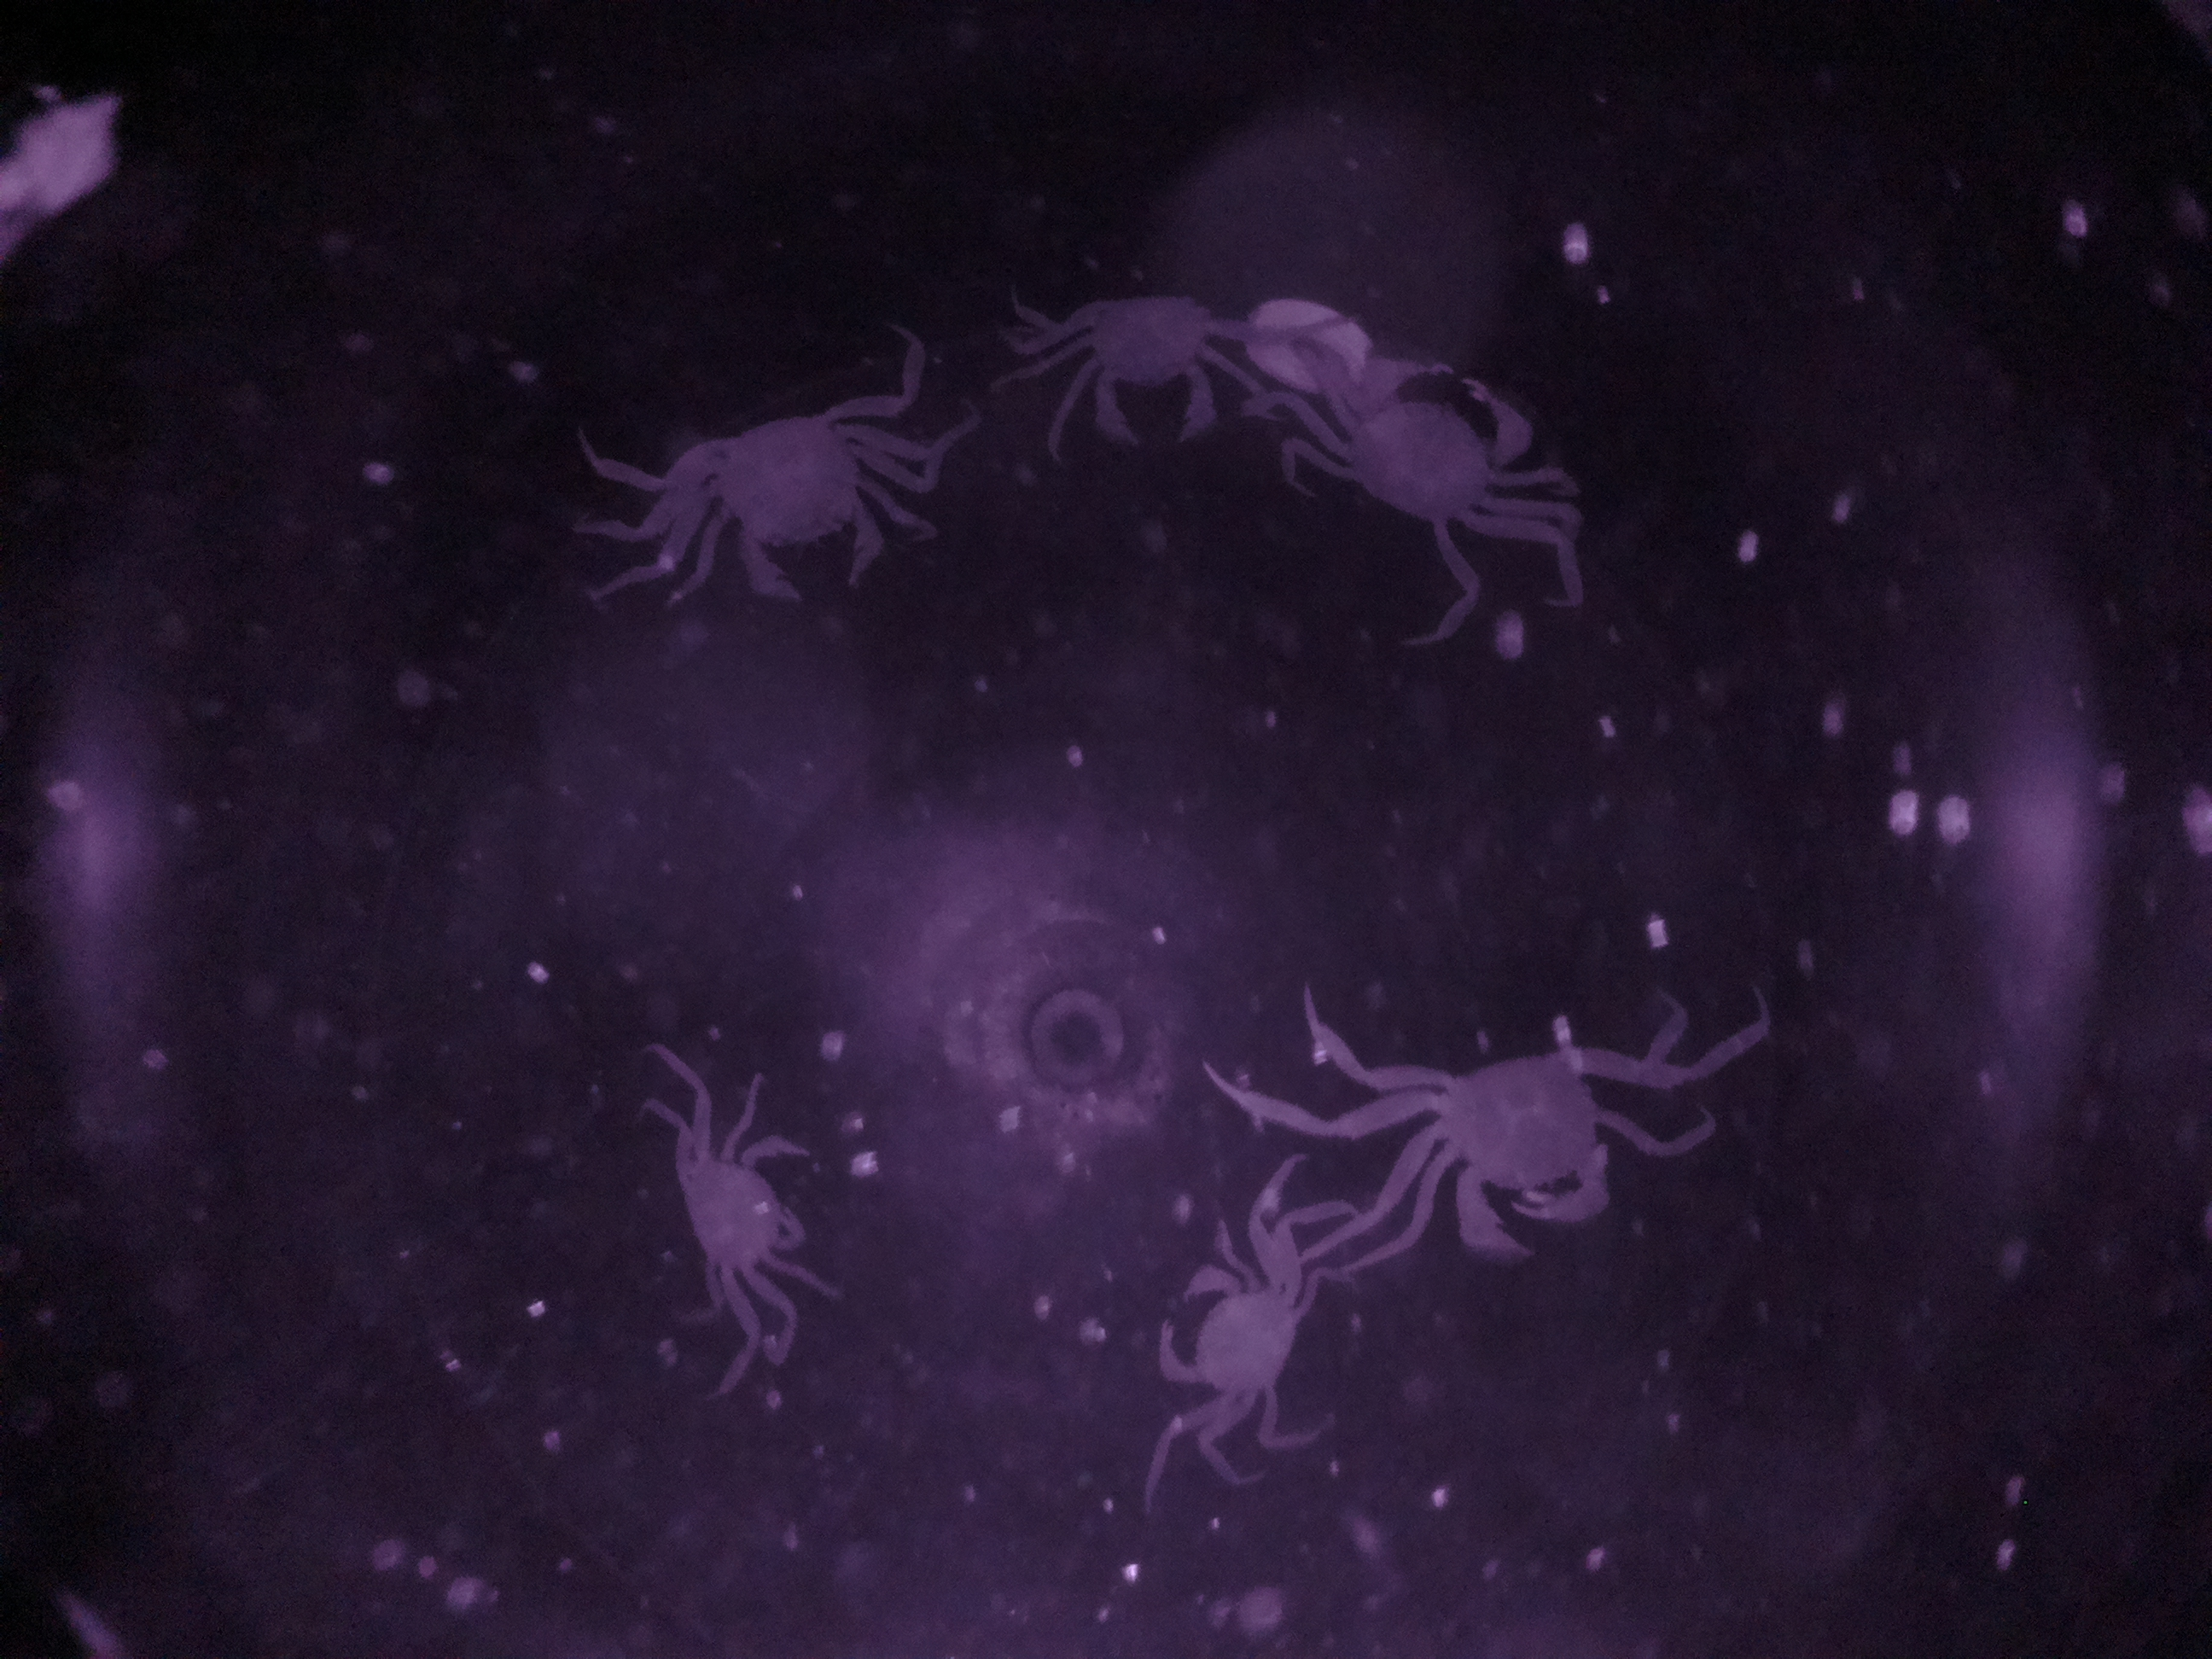Crab: (1374, 1019, 1688, 1274), (634, 394, 930, 619), (1284, 347, 1576, 549), (1130, 1234, 1345, 1443), (1022, 284, 1251, 457), (658, 1094, 843, 1297)
